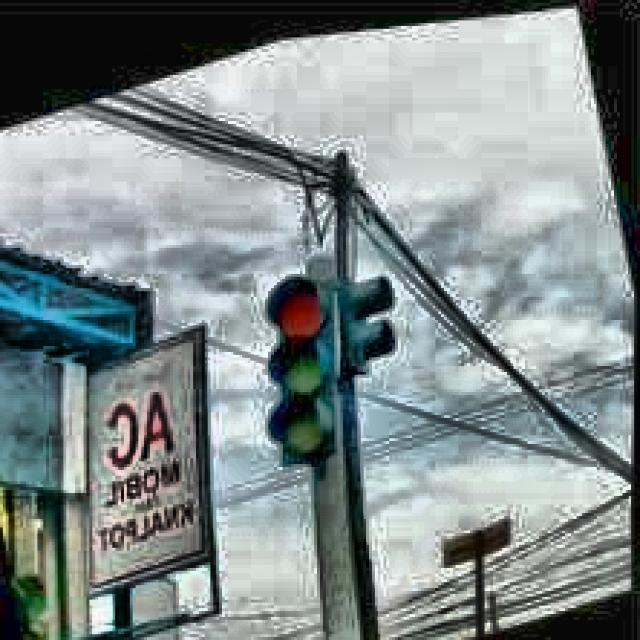red: (236, 249, 375, 477)
